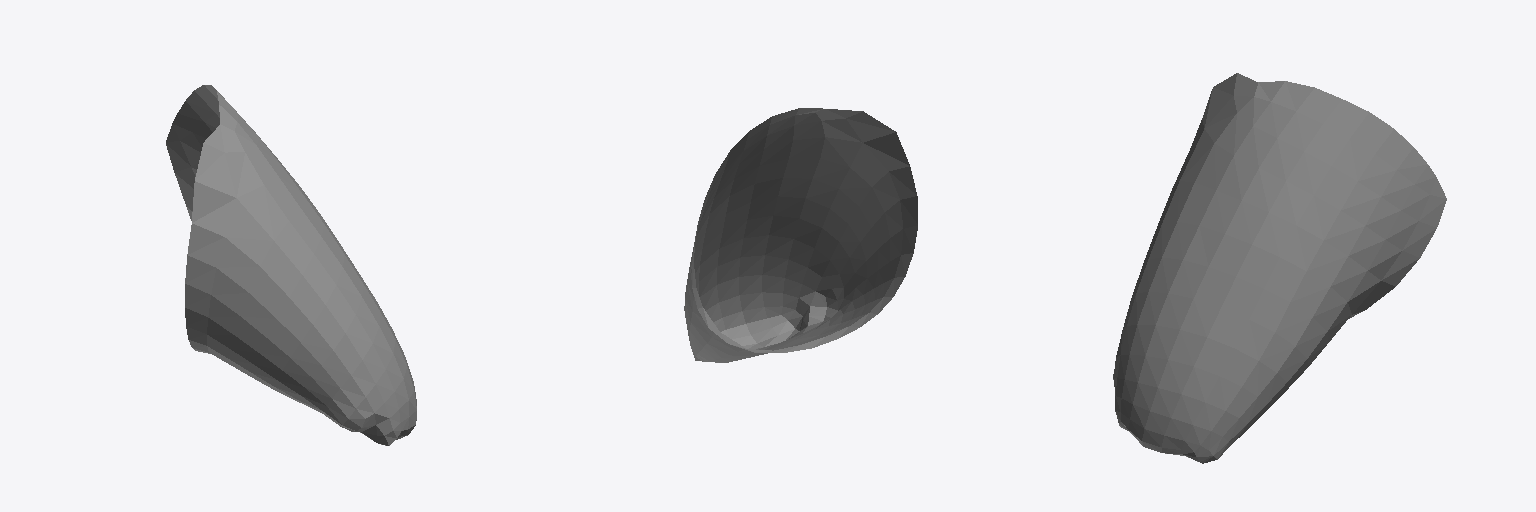
The model's file is brazoIzqPicachu.obj.
3 renders of one model, left to right at view 1: azimuth 30°, elevation 25°; view 2: azimuth 150°, elevation 25°; view 3: azimuth 270°, elevation 25°, orthographic.
Visible parts, largest first — view 1: brazoIzqPic; view 2: brazoIzqPic; view 3: brazoIzqPic.
Part boxes in pixels (bbox=[...]): brazoIzqPic: bbox=[166, 85, 416, 445]; brazoIzqPic: bbox=[684, 108, 917, 362]; brazoIzqPic: bbox=[1113, 73, 1446, 463].
Size of the model in its own units: 0.7903 by 1.08 by 1.03.